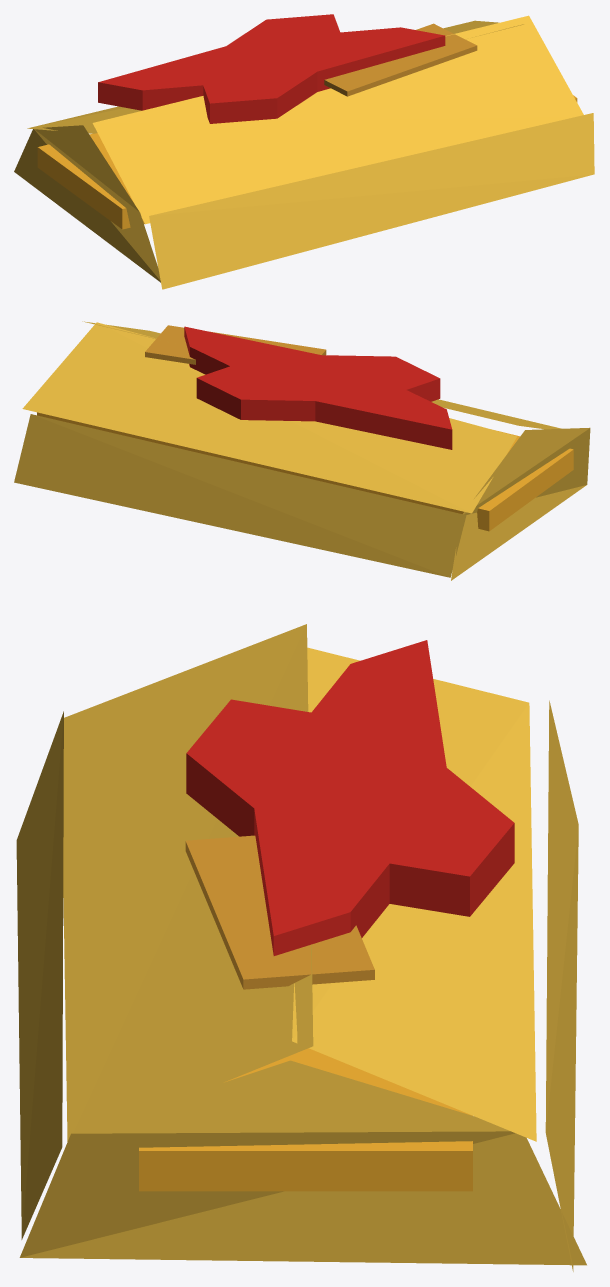
The model's file is food_egg_omelet_slice.glb.
3 renders of one model, top to bottom at view 1: azimuth 30°, elevation 25°; view 2: azimuth 150°, elevation 25°; view 3: azimuth 270°, elevation 25°, orthographic. The views are drawn at different scales.
Parts seen in each view (by area): view 1: food_egg_omelet_slice; view 2: food_egg_omelet_slice; view 3: food_egg_omelet_slice.
Part boxes in pixels (bbox=[...]): food_egg_omelet_slice: bbox=[14, 14, 594, 289]; food_egg_omelet_slice: bbox=[14, 321, 590, 580]; food_egg_omelet_slice: bbox=[16, 624, 586, 1271].
Bounding box in the file's own units: 0.093 × 0.0243 × 0.0523.
